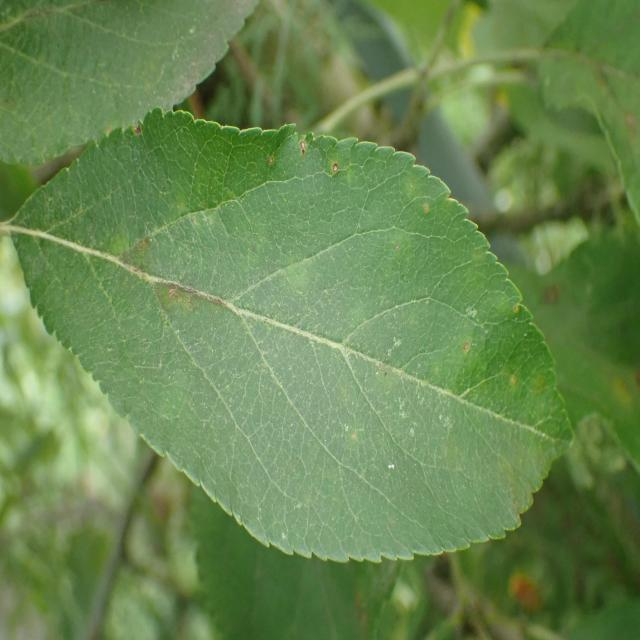scab: (58, 165, 557, 452)
